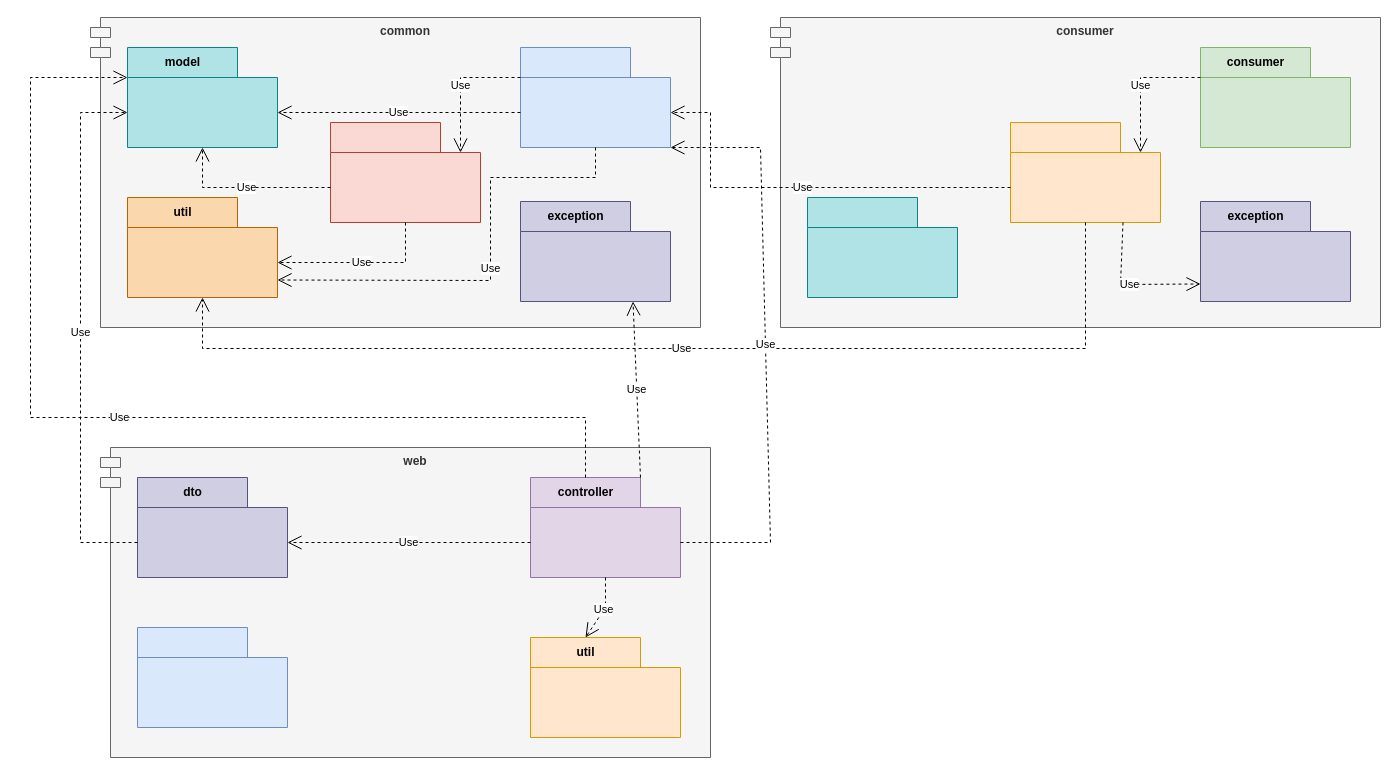
This 1398x775 diagram has some shape labels left out. Here are the shapes that lost their labels. From the top down, the centre of each, then its label:
[595,97]: service
[405,172]: repository
[1085,172]: handler
[882,247]: job
[212,677]: filter
